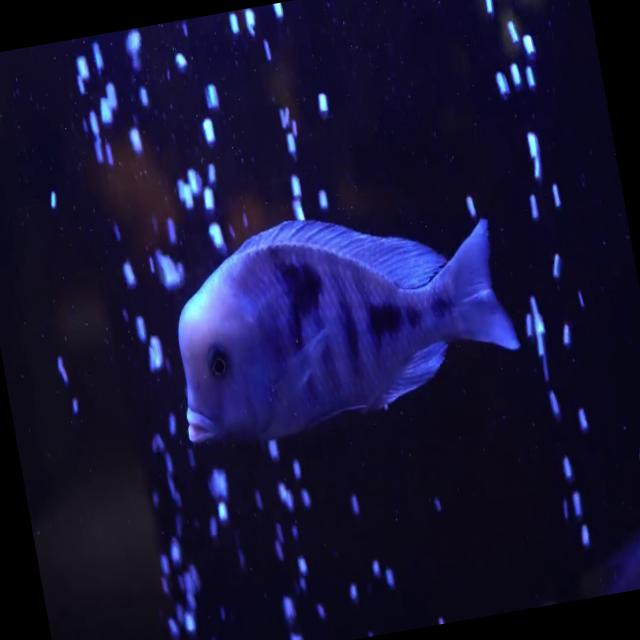fish: (146, 182, 534, 460)
